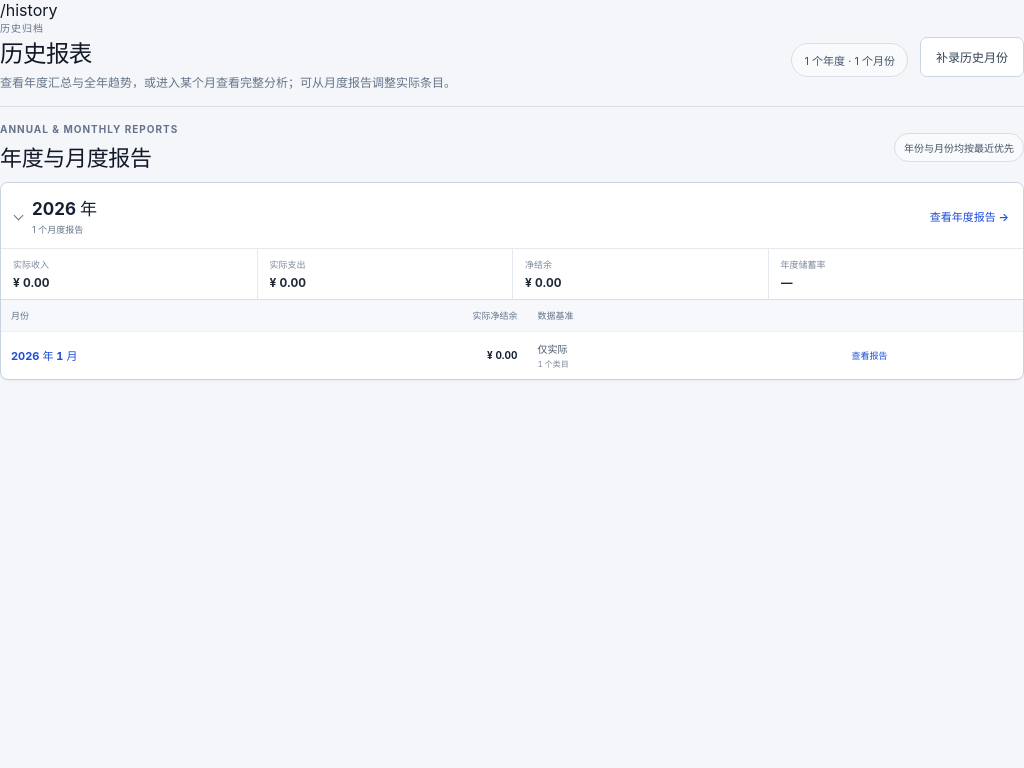
Test: historical month backfill › opens an existing month through the picker and retains its report adjustment link
The width and height of the screenshot is (1024, 768).
Click the button "补录历史月份" at (972, 56), box [920,36,1023,76]
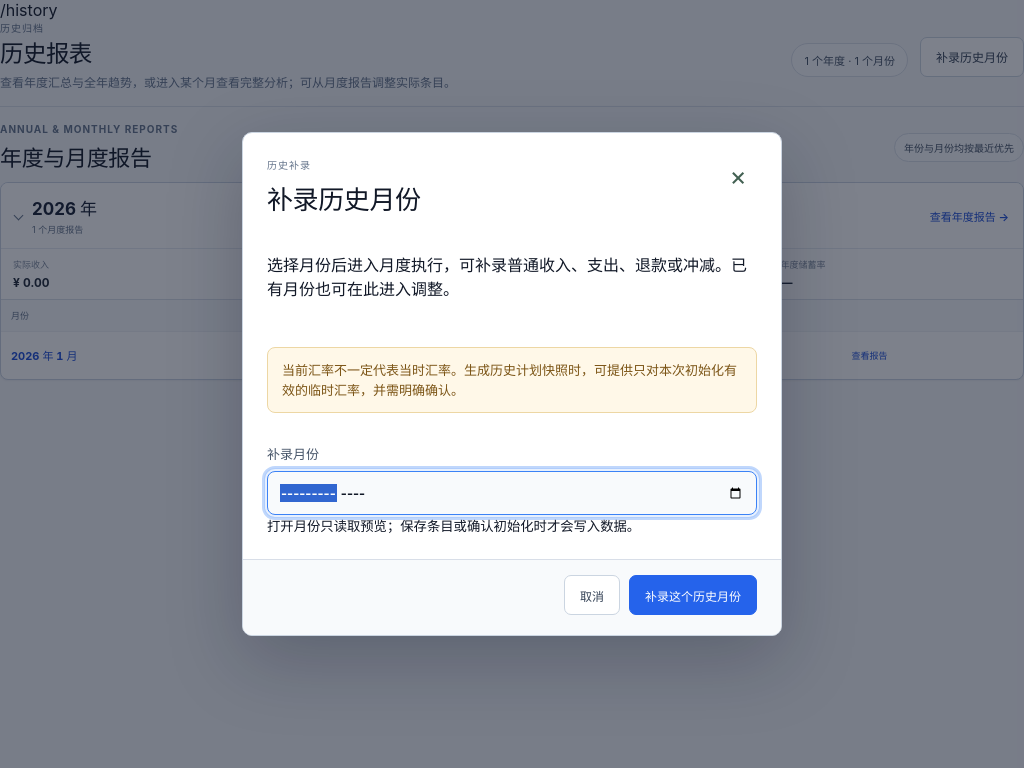
Type "2026-01" into the field labelled "补录月份" at (512, 493), box [267,471,757,515]
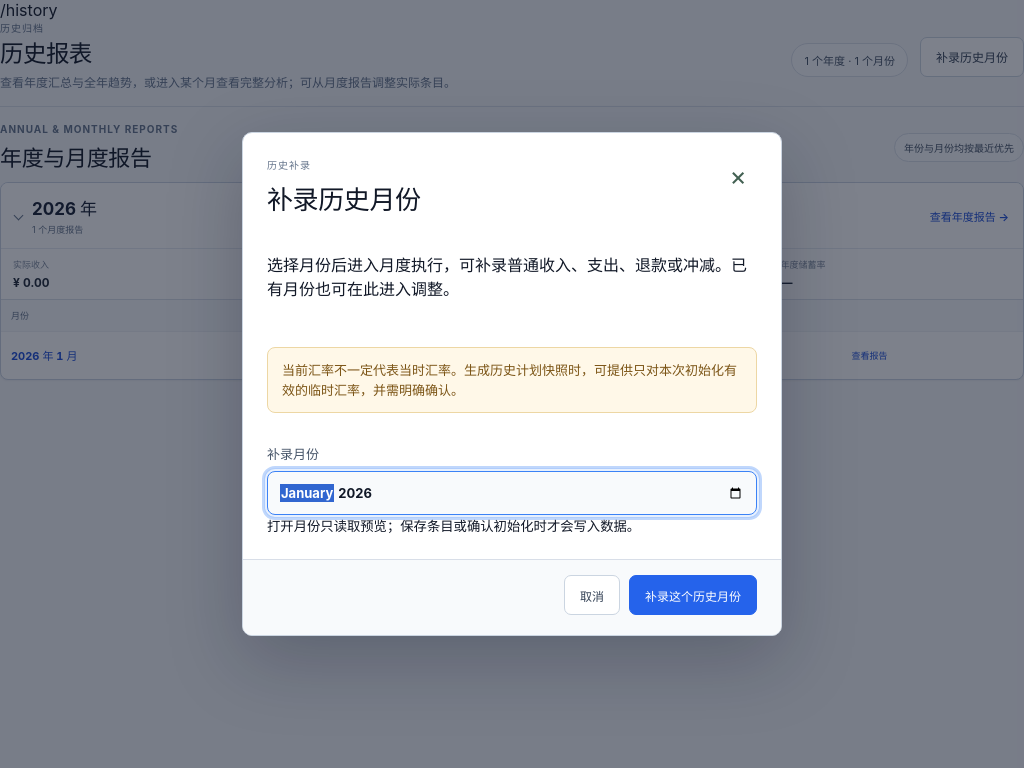
Click the button "补录这个历史月份" at (693, 595), box [629,575,757,615]
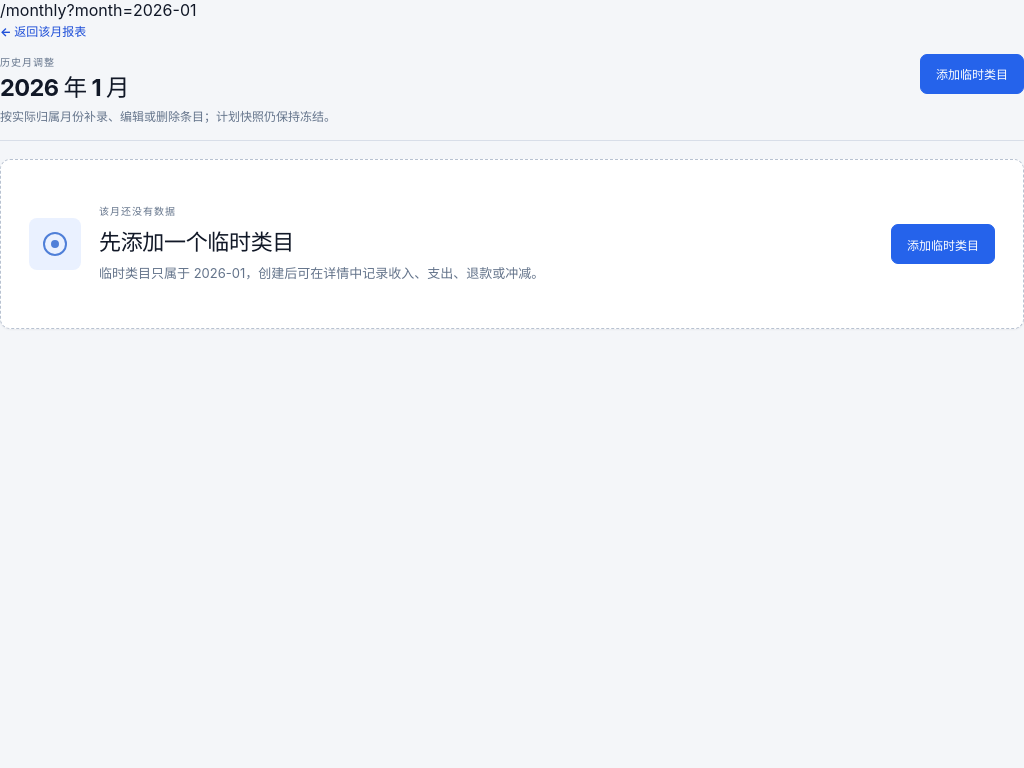
Result: the text named "当前地址" reads "/monthly?month=2026-01" at [0,0,196,20]
